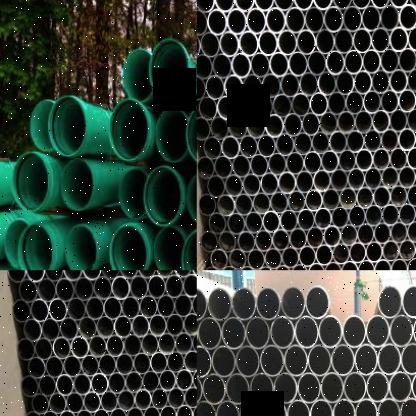pipe: (108, 98, 148, 162), (149, 39, 188, 101), (143, 166, 181, 228), (48, 96, 86, 157), (12, 152, 49, 212), (60, 158, 94, 211), (155, 108, 188, 162), (109, 226, 147, 270), (17, 224, 52, 271), (123, 48, 152, 102), (65, 224, 97, 271), (119, 168, 147, 218), (153, 226, 184, 271), (30, 99, 55, 152), (5, 219, 28, 270), (197, 315, 223, 351), (231, 286, 257, 321), (245, 315, 271, 350), (294, 314, 320, 349), (221, 316, 247, 350), (207, 286, 232, 321), (235, 345, 261, 378), (280, 286, 306, 319), (259, 344, 285, 377), (305, 285, 330, 319), (256, 286, 281, 320), (342, 314, 367, 348), (318, 314, 343, 348), (270, 315, 295, 349), (389, 313, 413, 348), (249, 372, 275, 404), (307, 344, 332, 376), (273, 372, 298, 404), (202, 373, 227, 405), (378, 285, 402, 318), (331, 343, 355, 376), (354, 343, 378, 376), (212, 345, 236, 378), (366, 314, 390, 347), (284, 344, 308, 377), (378, 342, 401, 376), (297, 372, 321, 404), (343, 371, 367, 403), (226, 373, 250, 404), (366, 371, 390, 402), (321, 372, 344, 403), (389, 371, 412, 402), (186, 101, 196, 166), (182, 230, 197, 270), (399, 341, 416, 375), (304, 6, 325, 33), (246, 7, 267, 34), (277, 29, 298, 56), (219, 31, 240, 57), (269, 51, 290, 77), (212, 53, 233, 79), (186, 172, 196, 226), (285, 6, 305, 33), (266, 7, 286, 34), (227, 8, 247, 35), (207, 8, 227, 35), (389, 26, 409, 53), (239, 30, 259, 57), (200, 31, 220, 58), (250, 51, 270, 78), (231, 52, 251, 79), (324, 5, 343, 33), (401, 283, 416, 318), (258, 30, 278, 56), (205, 74, 225, 100), (343, 5, 362, 32), (316, 28, 335, 55), (362, 4, 380, 32), (344, 49, 364, 74), (288, 51, 308, 76), (280, 72, 300, 97), (243, 73, 263, 98), (291, 92, 311, 117), (74, 276, 94, 301), (48, 297, 68, 322), (41, 317, 61, 342), (297, 29, 316, 55), (362, 48, 381, 74), (326, 49, 345, 75), (318, 70, 337, 96), (381, 4, 399, 31), (372, 26, 390, 53), (129, 275, 149, 299), (93, 276, 113, 300), (85, 296, 105, 320), (30, 298, 50, 322), (197, 345, 212, 377), (353, 28, 372, 53), (334, 28, 353, 53), (380, 48, 399, 73), (389, 68, 408, 93), (262, 73, 281, 98), (397, 87, 416, 112), (380, 89, 399, 114), (273, 93, 292, 118), (254, 93, 273, 118), (217, 95, 236, 120), (389, 108, 408, 133), (247, 114, 266, 139), (56, 277, 75, 302), (19, 278, 38, 303), (139, 294, 158, 319), (12, 298, 31, 323), (398, 3, 416, 29), (398, 46, 416, 72), (372, 68, 390, 94), (300, 71, 318, 97), (199, 95, 217, 121), (287, 189, 306, 213), (270, 190, 289, 214), (252, 191, 271, 215), (301, 112, 320, 136), (210, 116, 229, 140), (363, 128, 382, 152), (346, 129, 365, 153), (203, 136, 222, 160), (372, 147, 391, 171), (250, 153, 269, 177), (165, 274, 184, 298), (121, 295, 140, 319), (103, 296, 122, 320), (67, 297, 86, 321), (131, 314, 150, 338), (96, 315, 115, 339), (23, 318, 42, 342), (17, 337, 36, 361), (63, 354, 82, 378), (309, 397, 333, 416), (354, 397, 378, 416), (243, 172, 261, 197), (308, 50, 326, 75), (336, 70, 354, 95), (225, 74, 243, 99), (363, 89, 381, 114), (346, 90, 364, 115), (310, 91, 328, 116), (236, 94, 254, 119), (266, 113, 284, 138), (381, 127, 399, 152), (258, 133, 276, 158), (240, 134, 258, 159), (148, 274, 166, 299), (112, 275, 130, 300), (78, 315, 96, 340), (239, 398, 264, 416), (278, 171, 297, 194), (260, 172, 279, 195), (234, 193, 253, 216), (198, 193, 217, 216), (245, 211, 264, 234), (254, 229, 273, 252), (354, 110, 373, 133), (397, 127, 416, 150), (311, 131, 330, 154), (294, 132, 313, 155), (268, 152, 287, 175), (232, 154, 251, 177), (214, 155, 233, 178), (38, 374, 57, 397), (174, 294, 193, 317), (114, 315, 133, 338), (60, 317, 79, 340), (123, 333, 142, 356), (98, 353, 117, 376), (45, 355, 64, 378), (27, 356, 46, 379), (398, 165, 416, 189), (364, 166, 382, 190), (330, 168, 348, 192), (313, 169, 331, 193), (225, 173, 243, 197), (207, 174, 225, 198), (339, 186, 357, 210), (305, 188, 323, 212), (217, 193, 235, 217), (314, 206, 332, 230), (354, 70, 372, 94), (328, 91, 346, 115), (372, 109, 390, 133), (337, 110, 355, 134), (320, 111, 338, 135), (284, 113, 302, 137), (229, 115, 247, 139), (338, 148, 356, 172), (321, 149, 339, 173), (304, 150, 322, 174), (38, 278, 56, 302), (157, 294, 175, 318), (175, 331, 193, 355), (141, 332, 159, 356), (89, 334, 107, 358), (215, 398, 239, 416), (263, 398, 287, 416), (208, 212, 227, 234), (200, 230, 219, 252), (218, 230, 237, 252), (228, 248, 247, 270), (55, 374, 74, 396), (20, 375, 39, 397), (377, 397, 399, 416), (332, 397, 354, 416), (381, 166, 399, 189), (296, 170, 314, 193), (373, 185, 391, 208), (356, 186, 374, 209), (322, 188, 340, 211), (331, 205, 349, 228), (279, 210, 297, 233), (262, 210, 280, 233), (227, 212, 245, 235), (272, 228, 290, 251), (329, 130, 347, 153), (276, 133, 294, 156), (222, 136, 240, 159), (286, 151, 304, 174), (91, 372, 109, 395), (151, 387, 169, 410), (100, 389, 118, 412), (49, 392, 67, 415), (166, 313, 184, 336), (149, 314, 167, 337), (106, 334, 124, 357), (71, 335, 89, 358), (53, 336, 71, 359), (35, 337, 53, 360), (150, 351, 168, 374), (81, 354, 99, 377), (286, 398, 309, 416), (348, 167, 365, 191), (390, 184, 407, 208), (298, 207, 315, 231), (31, 393, 50, 414), (348, 205, 366, 227), (357, 223, 375, 245), (340, 224, 358, 246), (306, 226, 324, 248), (289, 227, 307, 249), (237, 230, 255, 252), (315, 244, 333, 266), (247, 248, 265, 270), (210, 248, 228, 270), (142, 370, 160, 392), (125, 371, 143, 393), (73, 373, 91, 395), (66, 391, 84, 413), (167, 351, 185, 373), (116, 353, 134, 375), (382, 203, 399, 226), (324, 224, 341, 247), (399, 239, 416, 262), (265, 247, 282, 270), (390, 147, 407, 170), (356, 148, 373, 171), (197, 156, 214, 179), (159, 369, 176, 392), (168, 386, 185, 409), (84, 390, 101, 413), (158, 332, 175, 355), (197, 53, 212, 79), (390, 222, 408, 243), (182, 273, 197, 298), (399, 203, 416, 225), (365, 204, 382, 226), (374, 222, 391, 244), (299, 245, 316, 267), (282, 246, 299, 268), (176, 369, 193, 391), (109, 372, 126, 394), (135, 388, 152, 410), (118, 389, 135, 411), (133, 352, 150, 374), (197, 286, 208, 320), (350, 241, 366, 264), (333, 243, 350, 264), (383, 240, 399, 262), (366, 241, 382, 263), (182, 312, 197, 335), (196, 399, 216, 416), (399, 396, 416, 416), (197, 116, 210, 141), (183, 385, 197, 408), (183, 350, 197, 372), (197, 8, 208, 35), (214, 0, 235, 12), (25, 270, 45, 282), (390, 257, 408, 270), (407, 25, 416, 51), (197, 74, 206, 100), (406, 146, 416, 169), (44, 270, 63, 282), (7, 270, 26, 282), (407, 67, 416, 92), (407, 107, 416, 132), (234, 0, 254, 11), (273, 0, 294, 10), (254, 0, 273, 11), (407, 220, 416, 243), (197, 0, 214, 12), (176, 404, 193, 416), (159, 404, 176, 416), (293, 0, 313, 10), (407, 185, 416, 207), (197, 373, 203, 405), (119, 270, 138, 280), (101, 270, 120, 280), (374, 259, 391, 270), (143, 405, 160, 416), (332, 0, 352, 9), (126, 406, 144, 416), (63, 271, 83, 280), (358, 259, 374, 270), (352, 0, 371, 9), (313, 0, 332, 9), (82, 271, 101, 280), (341, 260, 358, 270), (324, 261, 342, 270), (109, 407, 127, 416), (370, 0, 390, 8), (411, 370, 416, 402), (173, 270, 192, 278), (389, 0, 409, 7), (93, 408, 110, 416), (308, 262, 324, 270), (75, 409, 93, 416), (59, 409, 77, 416), (156, 271, 174, 278), (138, 271, 156, 278), (291, 263, 308, 270), (408, 256, 416, 270), (413, 313, 416, 348), (274, 264, 291, 270), (42, 410, 59, 416), (192, 330, 196, 354), (192, 367, 196, 390), (192, 293, 196, 316), (221, 265, 239, 270), (24, 411, 42, 416), (257, 265, 274, 270), (239, 265, 256, 270), (203, 265, 220, 270), (192, 404, 196, 416)
